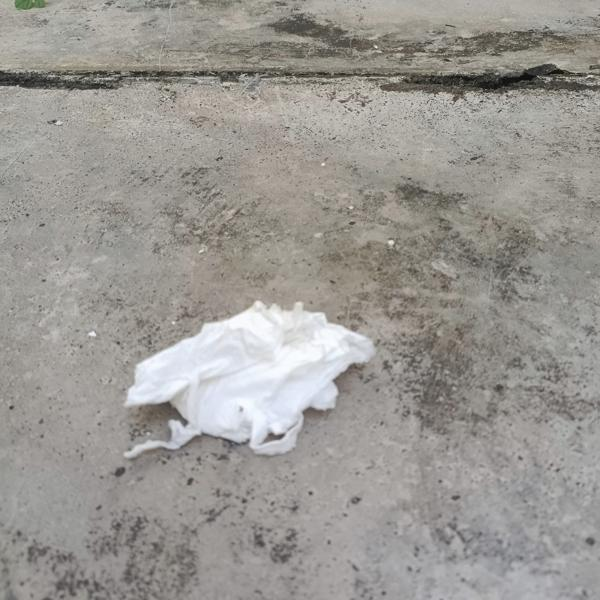Organik: (115, 285, 375, 472)
